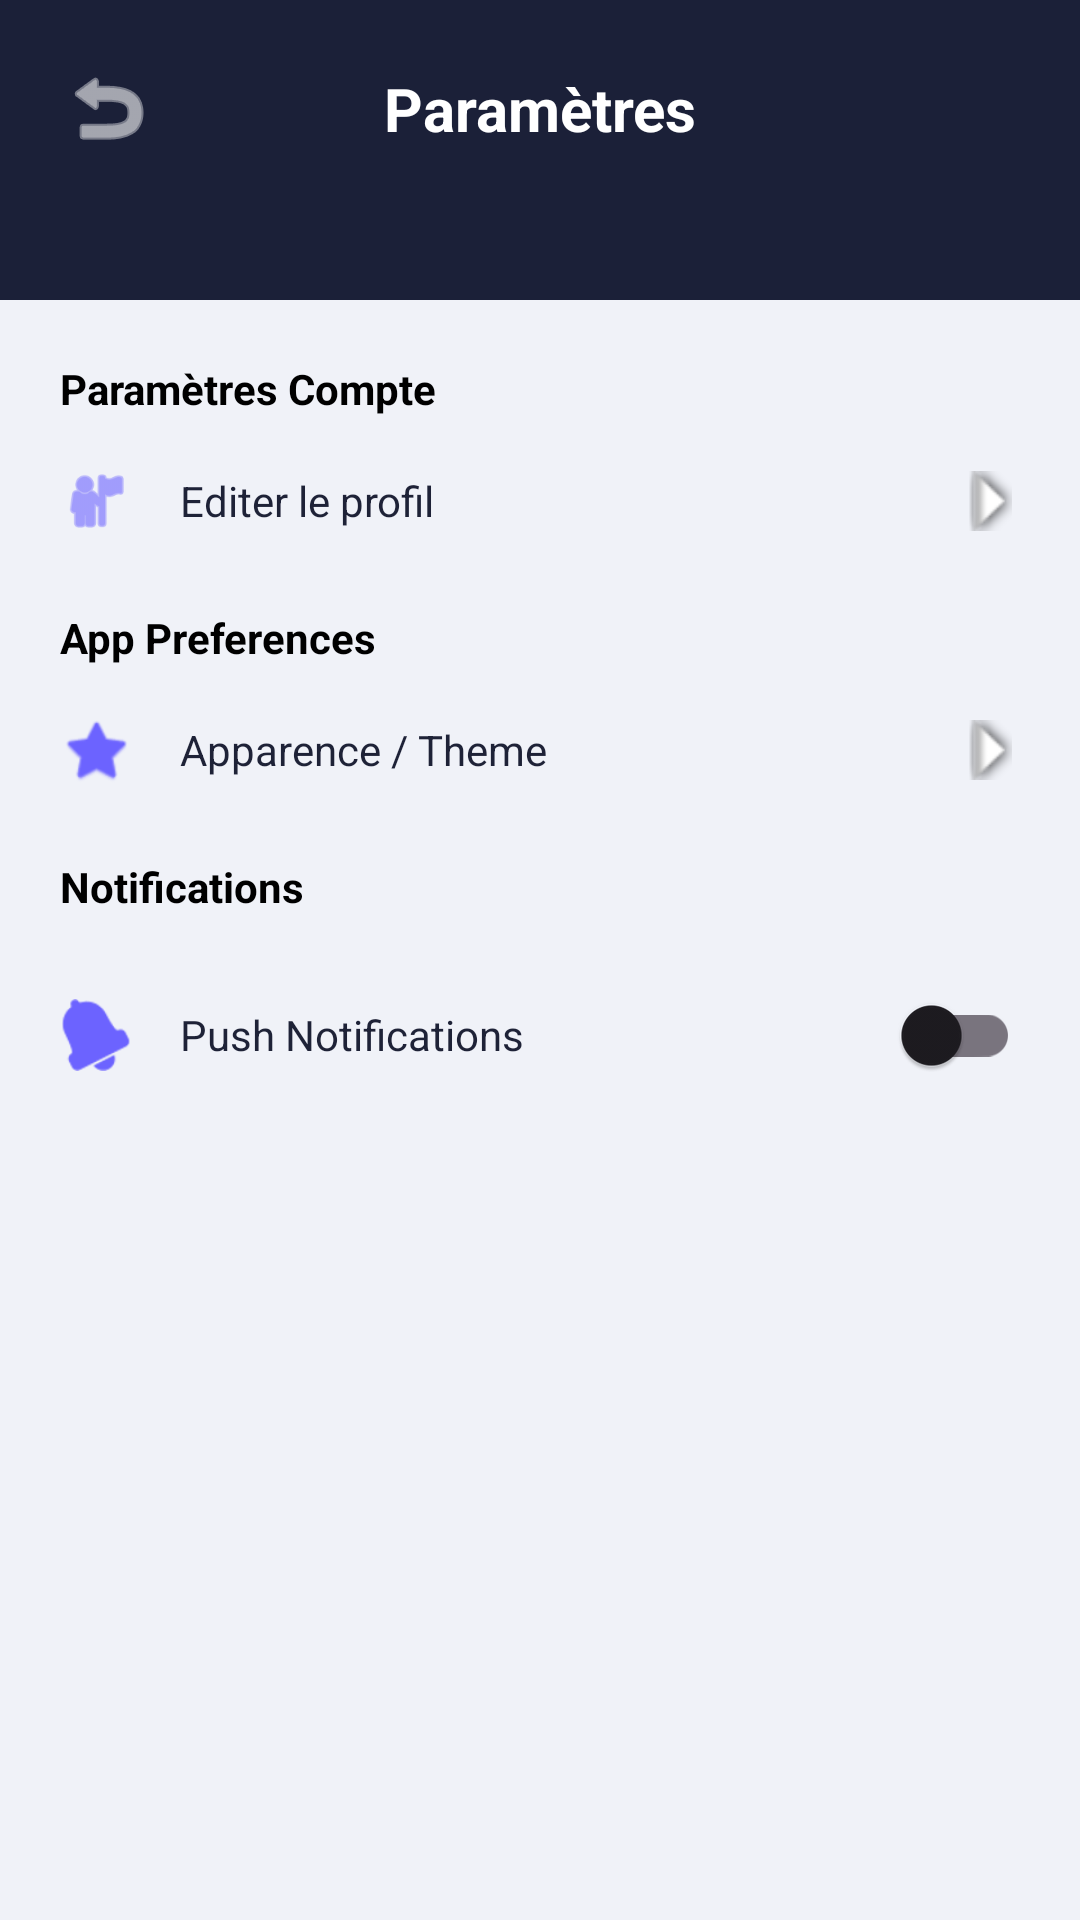

Icons on this 1080px×1920px Android screen, each with its box as (x1, y1, x2, y2):
popup reminder: (62, 999, 130, 1071)
revert: (75, 77, 144, 140)
star: (67, 722, 126, 779)
